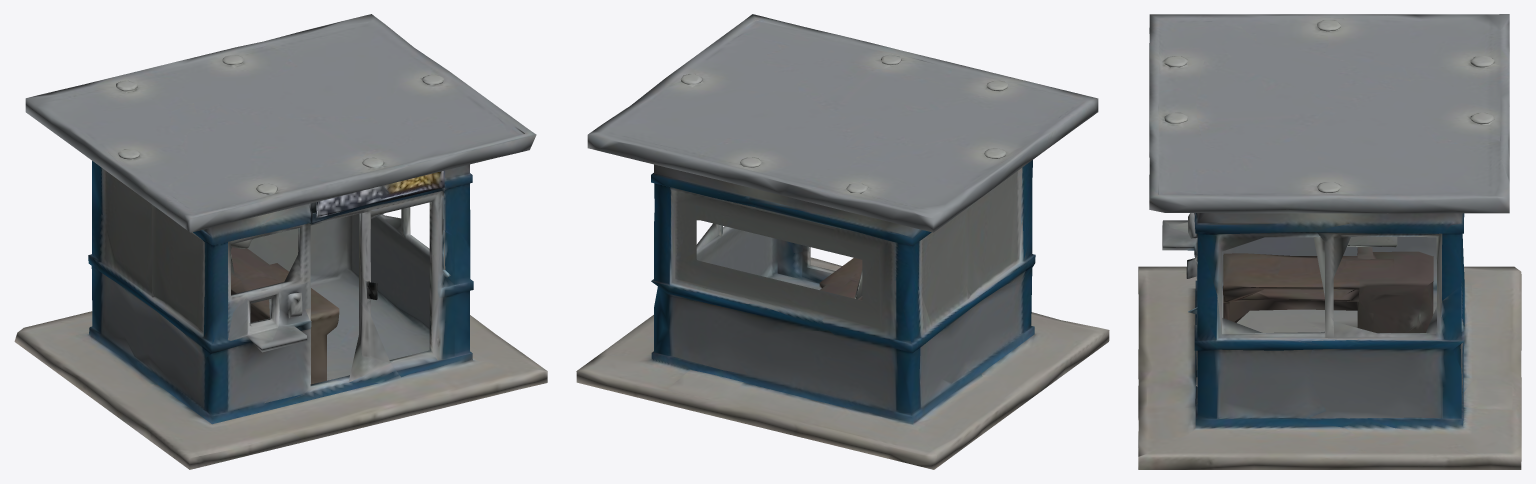
File: pos_security.glb
The picture shows the model from 3 angles, left to right: view 1: azimuth 30°, elevation 25°; view 2: azimuth 150°, elevation 25°; view 3: azimuth 270°, elevation 25°; orthographic projection. The views are drawn at different scales.
Parts seen in each view (by area): view 1: tripo_node_d71a70d3-4f36-4b1c-aaa7-bd59d2c7fd9b; view 2: tripo_node_d71a70d3-4f36-4b1c-aaa7-bd59d2c7fd9b; view 3: tripo_node_d71a70d3-4f36-4b1c-aaa7-bd59d2c7fd9b.
Boxes of the visible parts, x1,y1,x2,y2 form: tripo_node_d71a70d3-4f36-4b1c-aaa7-bd59d2c7fd9b: (14, 14, 547, 469); tripo_node_d71a70d3-4f36-4b1c-aaa7-bd59d2c7fd9b: (576, 14, 1109, 469); tripo_node_d71a70d3-4f36-4b1c-aaa7-bd59d2c7fd9b: (1138, 14, 1521, 469).
Size of the model in its own units: 1 by 0.6613 by 0.8492.
1 material, 1 textured.
